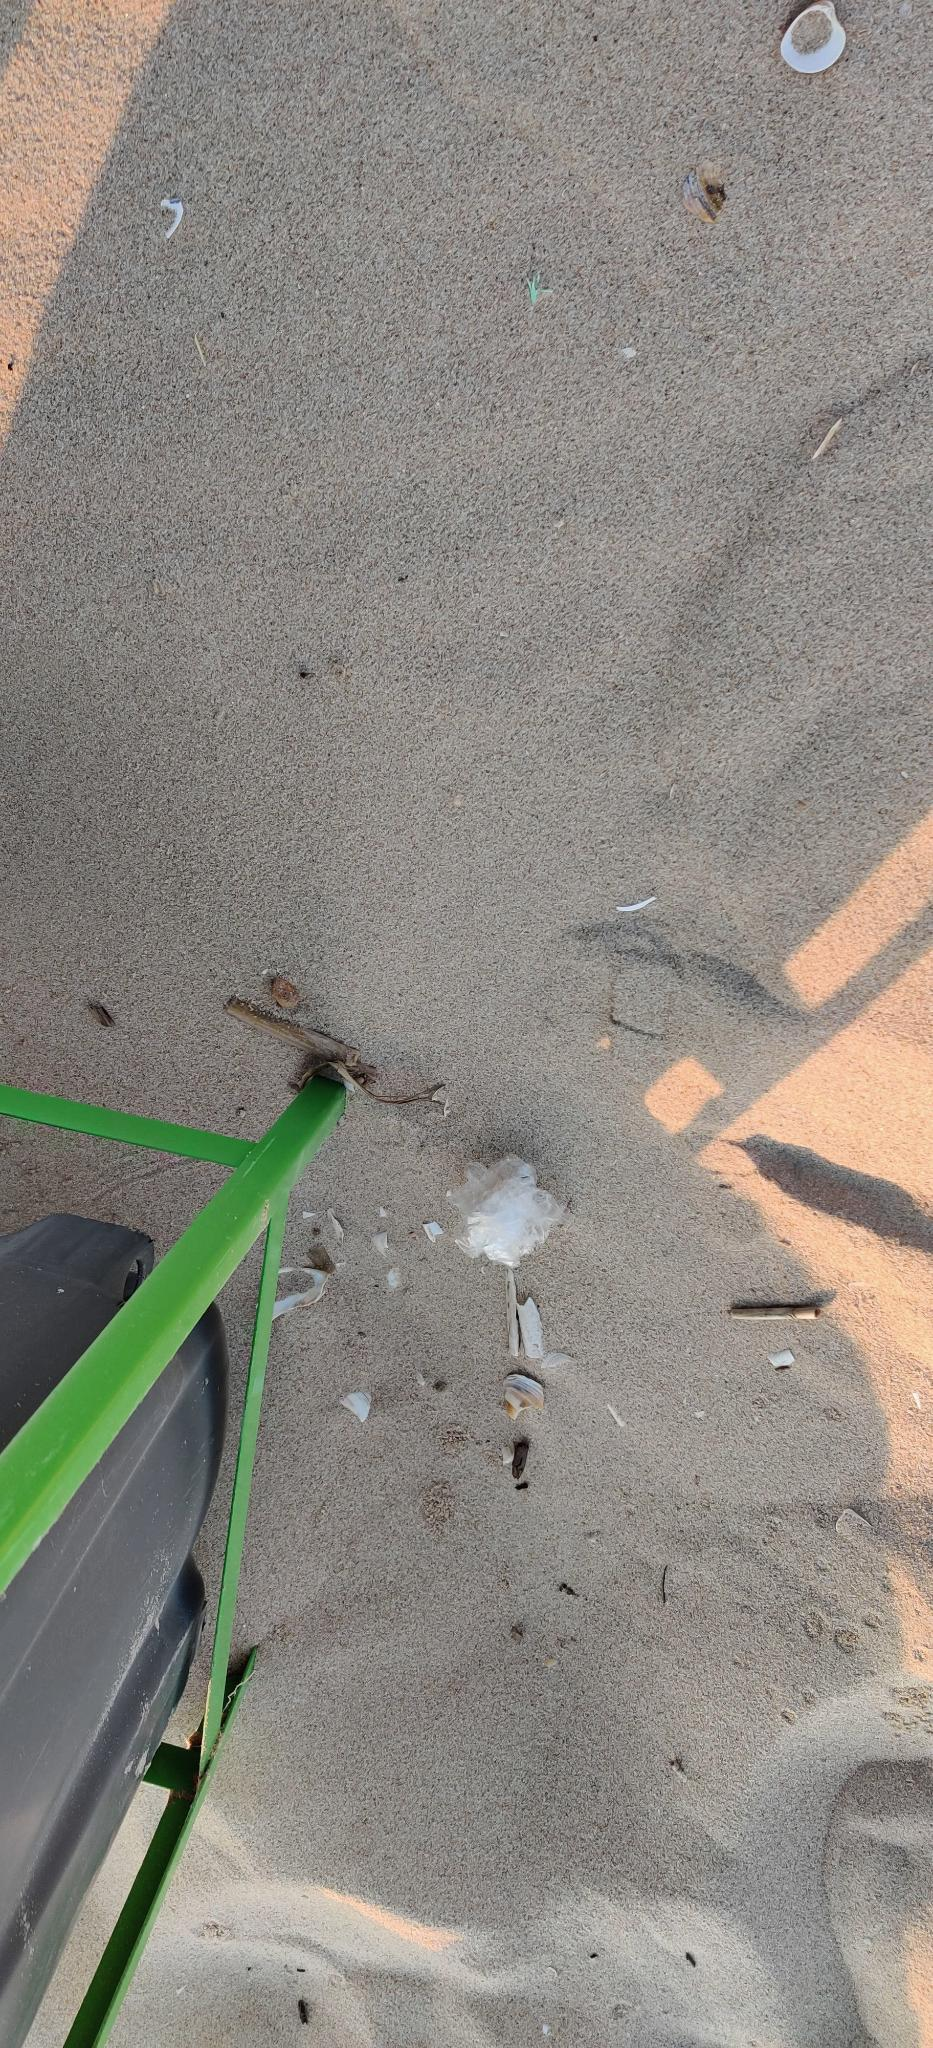Plastic: (439, 1145, 571, 1271)
Trash: (708, 1301, 827, 1326)
